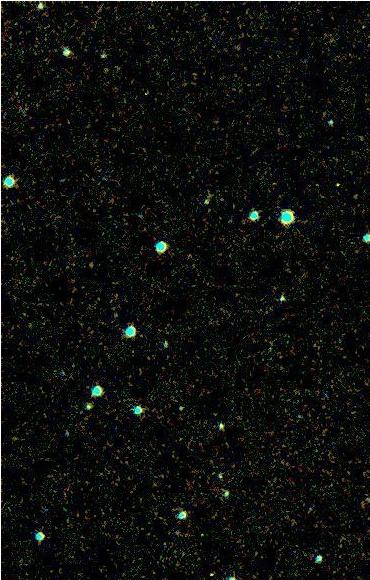star: (193, 557, 223, 580)
